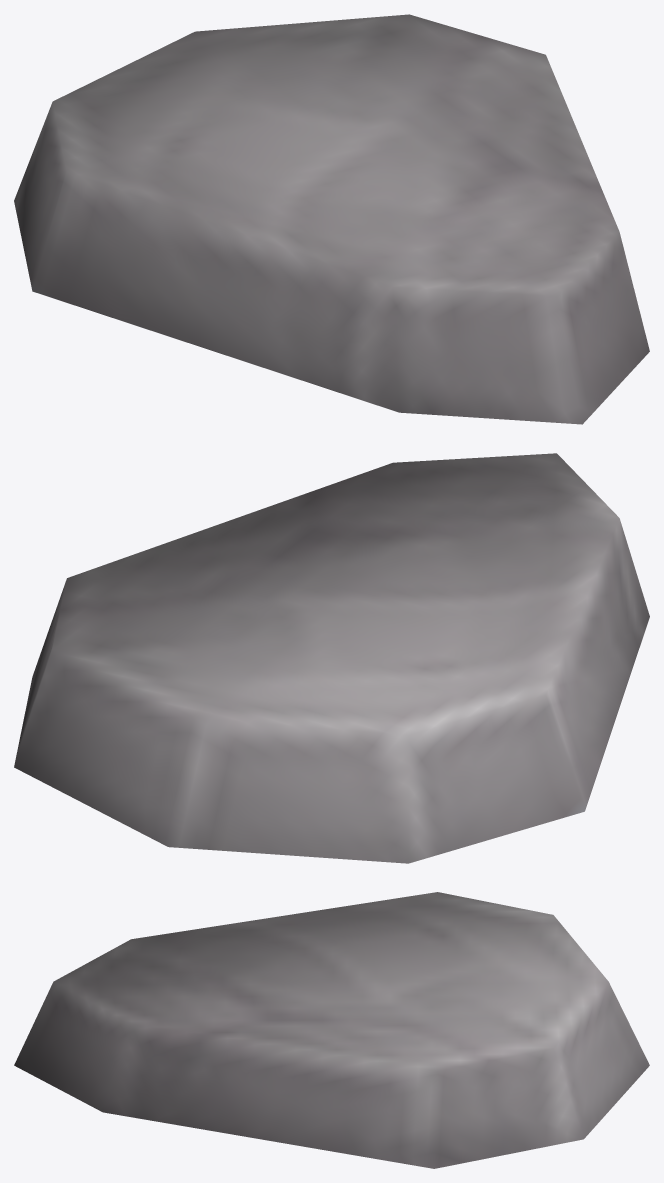
Rendered from broken monstone.FBX.
The picture shows the model from 3 angles, top to bottom: view 1: azimuth 30°, elevation 25°; view 2: azimuth 150°, elevation 25°; view 3: azimuth 270°, elevation 25°; orthographic projection. The views are drawn at different scales.
Visible parts, largest first — view 1: Box001; view 2: Box001; view 3: Box001.
Boxes of the visible parts, left/top/right/bottom form: Box001: left=14, top=14, right=649, bottom=424; Box001: left=14, top=453, right=649, bottom=863; Box001: left=14, top=892, right=649, bottom=1168.
Bounding box in the file's own units: 9.25 × 12.01 × 1.75.
